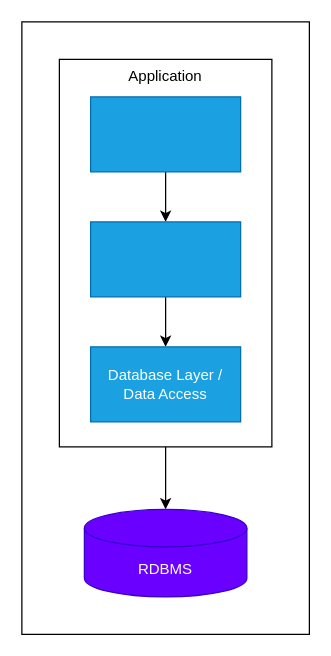
Some shapes in this 331 by 656 pixel diagram are drawn without their labels. The centre of each missing label's shape, as x and y in pixels:
Application Layer / Business Logic: the point at 165,259
Presentation Layer / User Interface: the point at 165,134
